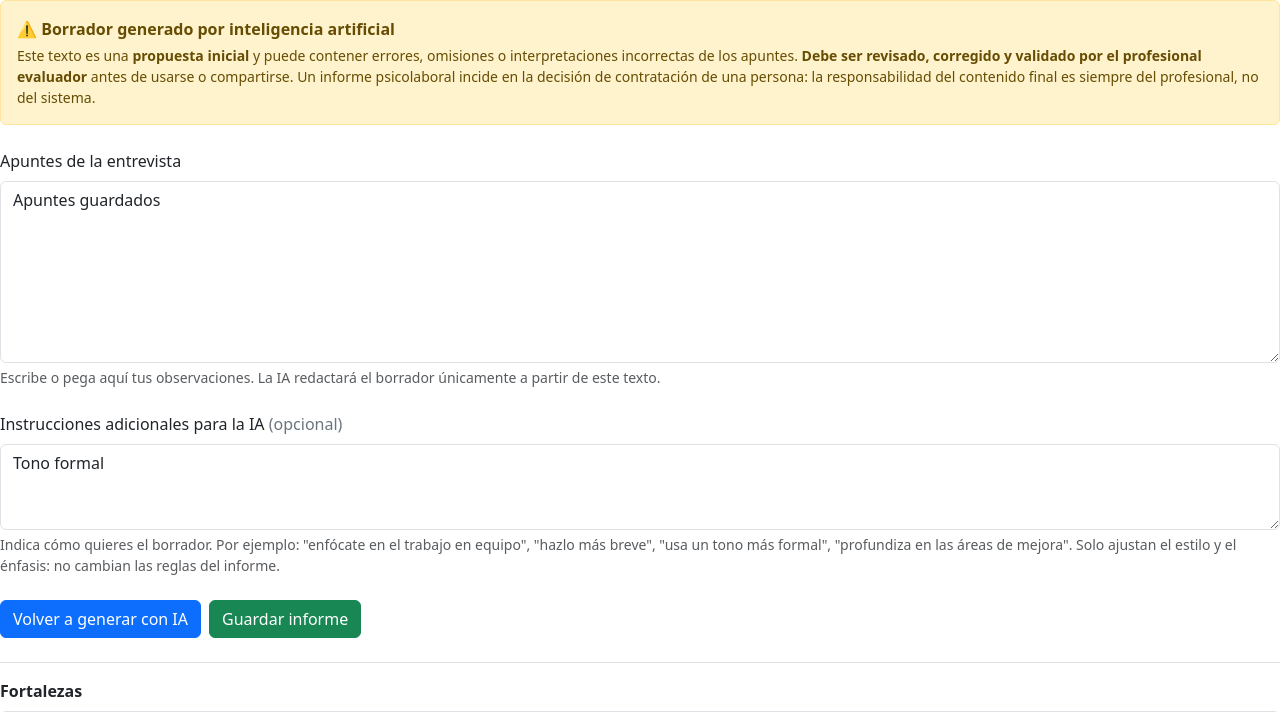
it: InformePsicolaboral › confirmar y guardar › si el guardado falla, muestra el error
This screenshot has width=1280, height=712.
Click the button "Guardar informe".
click(285, 619)  # box 209,600 -> 361,638
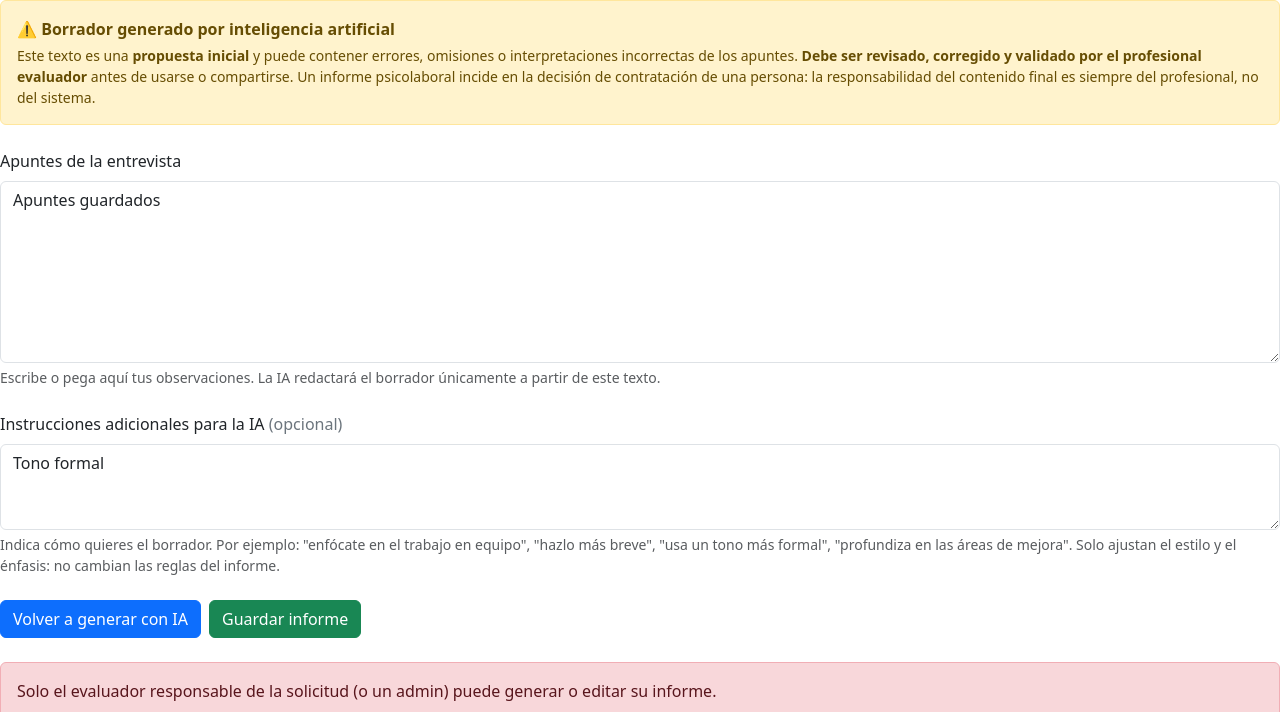
Now the text "Solo el evaluador responsable de la solicitud" is shown, box 17,680 -> 716,702
